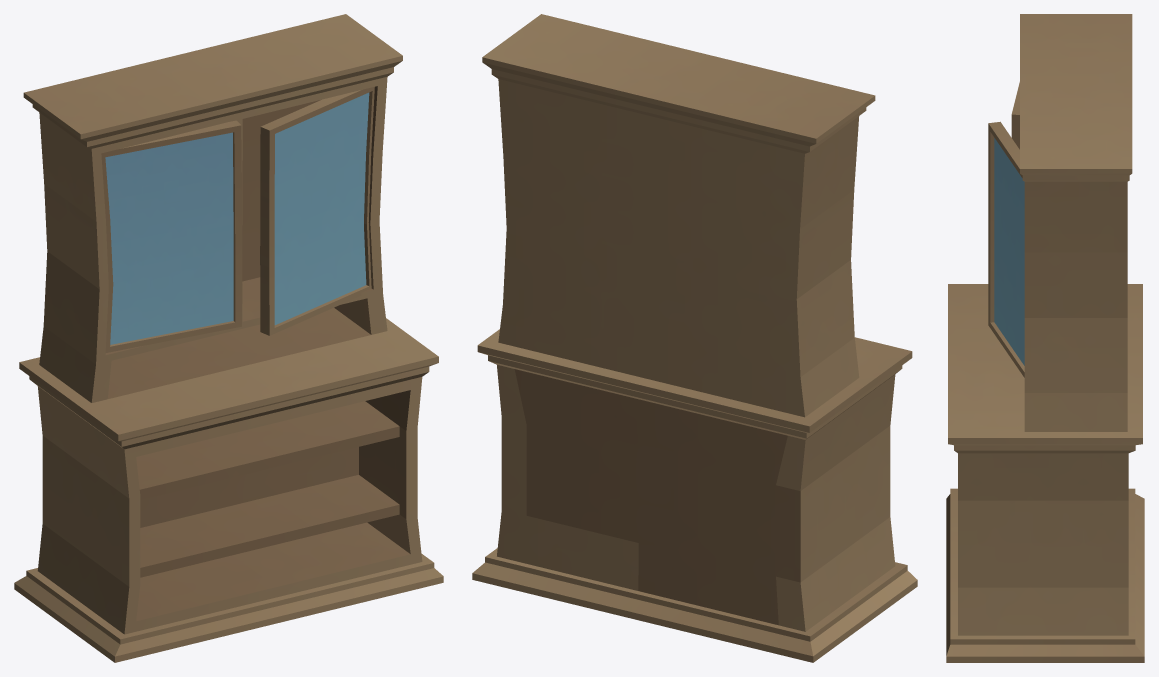
File: cupboard_1c.glb
3 views of the same model, side by side, from view 1: azimuth 30°, elevation 25°; view 2: azimuth 150°, elevation 25°; view 3: azimuth 270°, elevation 25° (orthographic). The views are drawn at different scales.
Visible parts, largest first — view 1: cupboard_1c, right_wing.001, left_wing.001; view 2: cupboard_1c; view 3: cupboard_1c, left_wing.001, right_wing.001.
Part boxes in pixels (left/top/right/bottom): cupboard_1c: left=14, top=14, right=443, bottom=662; right_wing.001: left=101, top=120, right=242, bottom=352; left_wing.001: left=260, top=86, right=374, bottom=335; cupboard_1c: left=472, top=14, right=917, bottom=662; cupboard_1c: left=946, top=14, right=1144, bottom=662; left_wing.001: left=988, top=121, right=1024, bottom=377; right_wing.001: left=1011, top=82, right=1019, bottom=149.
Bounding box in the file's own units: 1.1 × 1.6 × 0.5845.
Materials: 1 (1 with a texture image).
